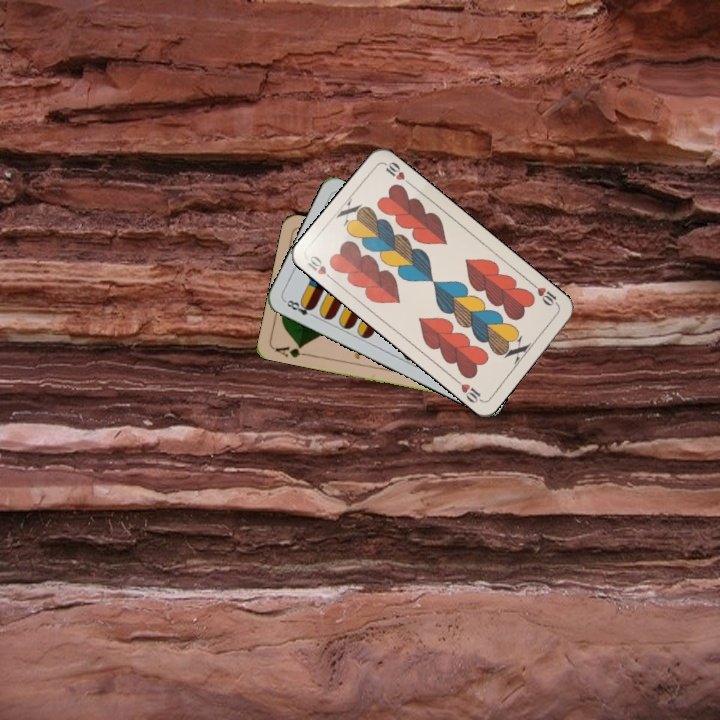E8: (281, 296, 319, 320)
GA: (271, 341, 311, 360)
H10: (303, 251, 337, 284), (527, 279, 561, 309)
